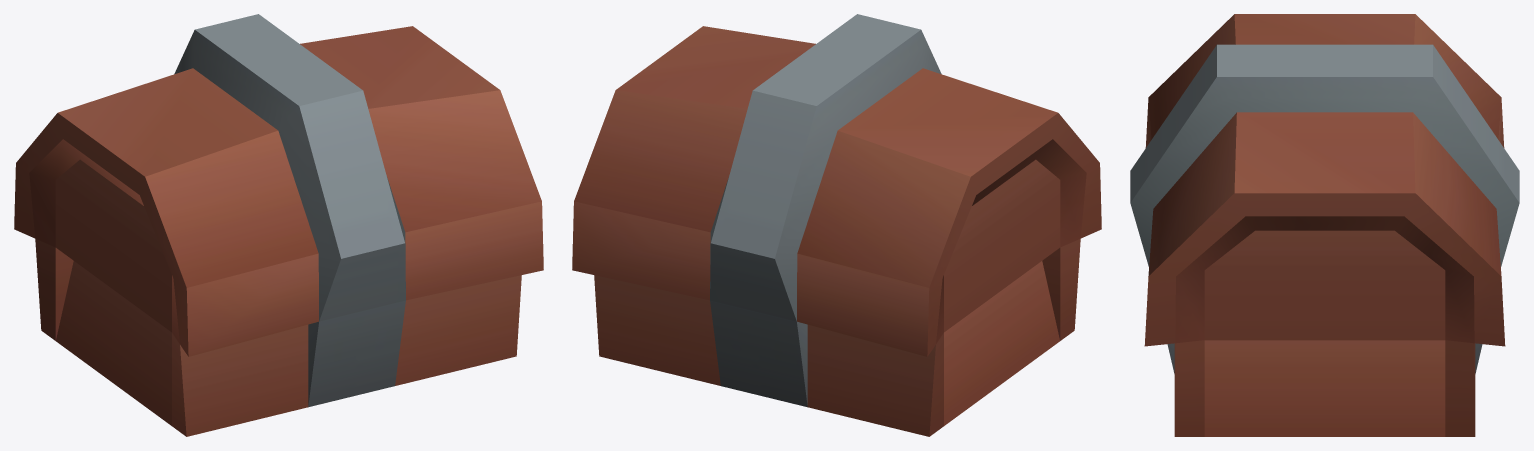
File: trunk_medium_a.glb
The picture shows the model from 3 angles, left to right: view 1: azimuth 30°, elevation 25°; view 2: azimuth 150°, elevation 25°; view 3: azimuth 270°, elevation 25°; orthographic projection. The views are drawn at different scales.
Visible parts, largest first — view 1: trunk_medium_A; view 2: trunk_medium_A; view 3: trunk_medium_A.
Boxes of the visible parts, box(x1,y1,x2,y2) form: trunk_medium_A: box(14, 14, 543, 436); trunk_medium_A: box(572, 14, 1101, 436); trunk_medium_A: box(1130, 14, 1519, 436).
Size of the model in its own units: 0.953 by 0.7265 by 0.8751.
Materials: 1 (1 with a texture image).
